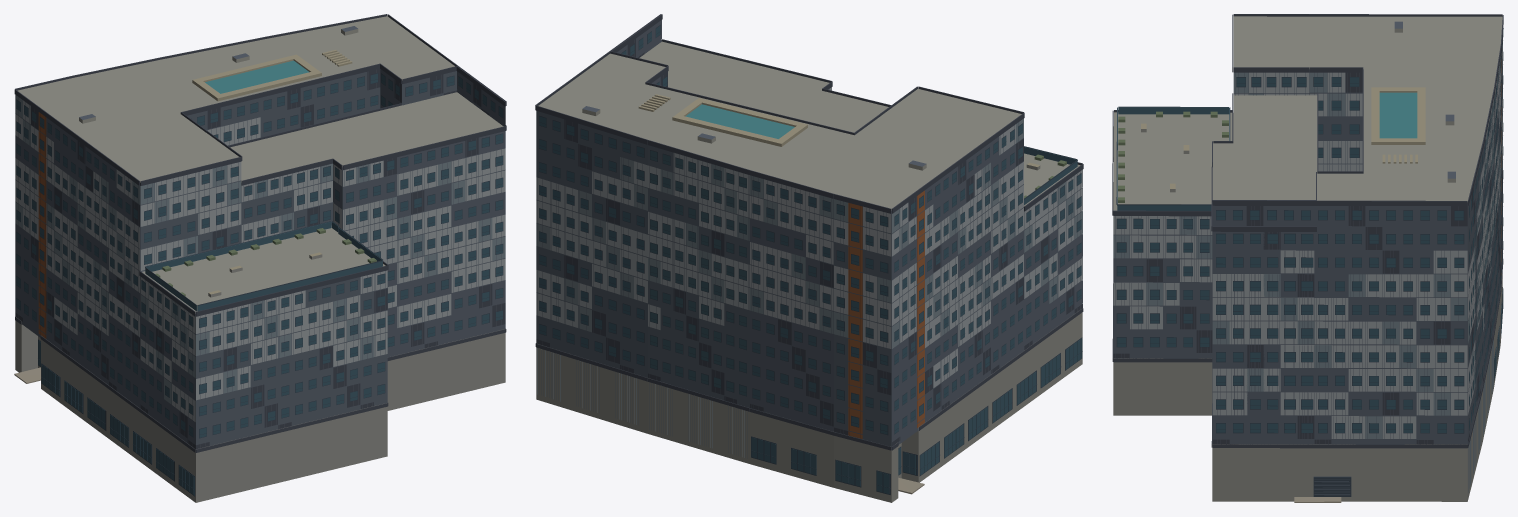
The model's file is site.glb.
3 views of the same model, side by side, from view 1: azimuth 30°, elevation 25°; view 2: azimuth 150°, elevation 25°; view 3: azimuth 270°, elevation 25° (orthographic). The views are drawn at different scales.
Visible parts, largest first — view 1: roof-513d7fee; view 2: roof-513d7fee; view 3: roof-513d7fee.
Part boxes in pixels (left/top/right/bottom): roof-513d7fee: left=14, top=14, right=506, bottom=502; roof-513d7fee: left=535, top=14, right=1083, bottom=502; roof-513d7fee: left=1112, top=14, right=1503, bottom=501.
Bounding box in the file's own units: 61.07 × 44.07 × 51.62.
